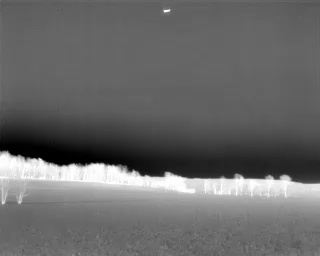DRONE: (160, 5, 174, 17)
